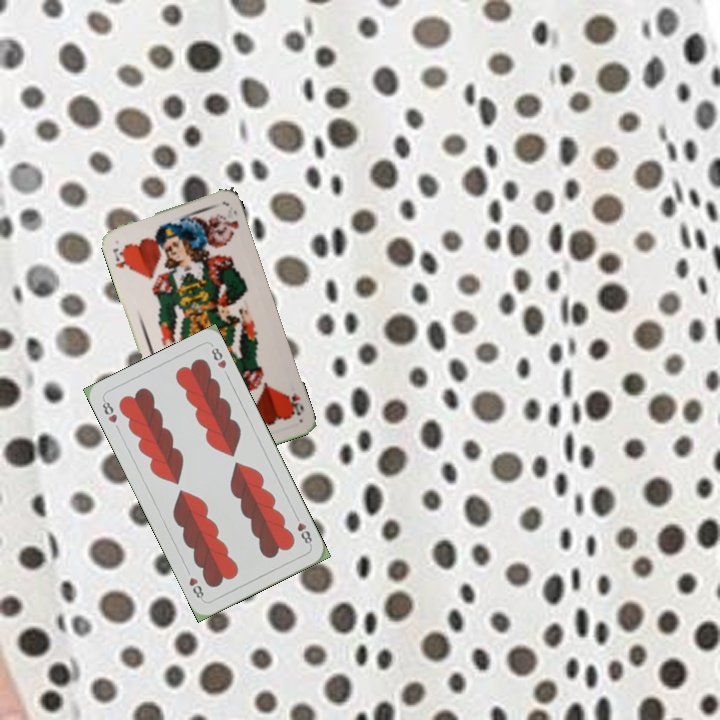H8: (290, 510, 315, 549), (98, 395, 120, 426)
HO: (282, 389, 307, 418), (109, 244, 133, 273)
